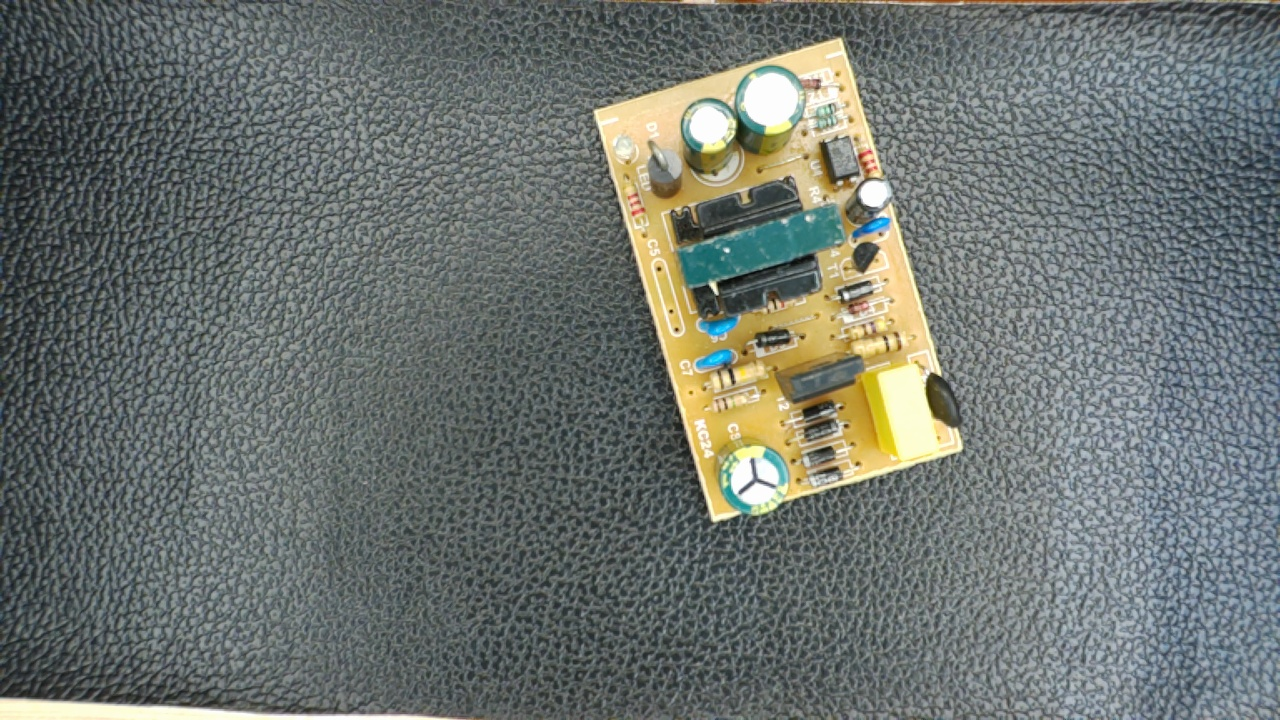fuse: (912, 359, 966, 435)
hv_capacitor: (713, 443, 792, 522)
optocoupler: (812, 129, 864, 188)
